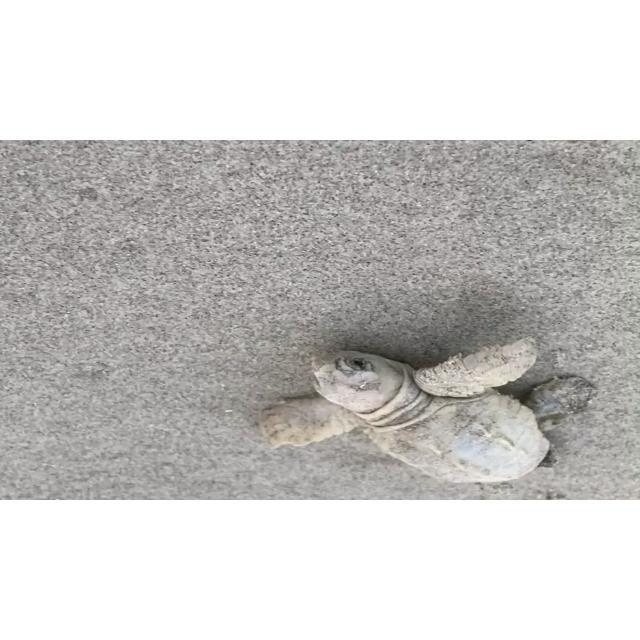turtle: (260, 335, 595, 484)
